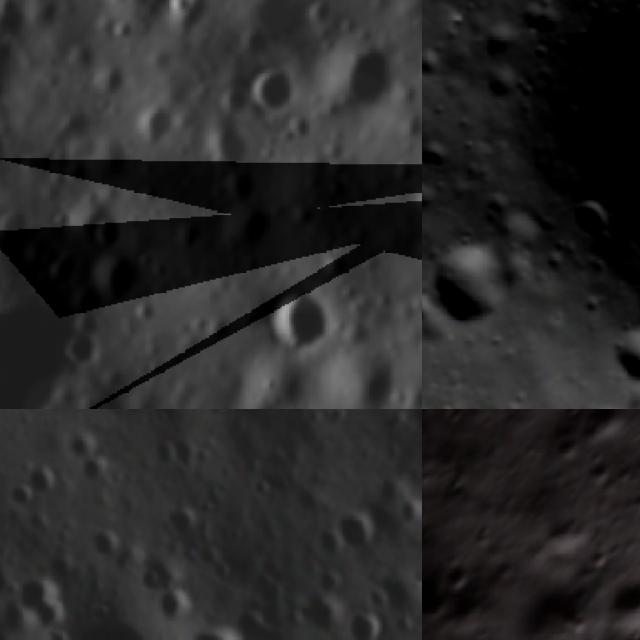crater: (422, 218, 536, 351), (309, 17, 418, 129), (250, 271, 352, 371), (76, 231, 162, 318), (190, 103, 274, 186), (213, 187, 291, 266), (553, 178, 628, 257), (238, 52, 316, 127), (125, 92, 193, 158), (55, 321, 119, 386), (0, 109, 37, 220), (44, 608, 172, 640), (76, 197, 140, 260), (84, 48, 147, 110), (592, 561, 640, 640), (69, 370, 152, 409), (0, 192, 47, 260), (602, 313, 640, 396), (476, 59, 533, 114), (332, 507, 392, 558), (14, 567, 63, 629), (17, 456, 68, 500), (422, 133, 462, 182), (178, 616, 255, 640), (333, 609, 385, 640), (393, 487, 422, 538), (161, 0, 207, 30), (75, 460, 118, 490), (6, 483, 34, 518), (406, 409, 422, 444)
